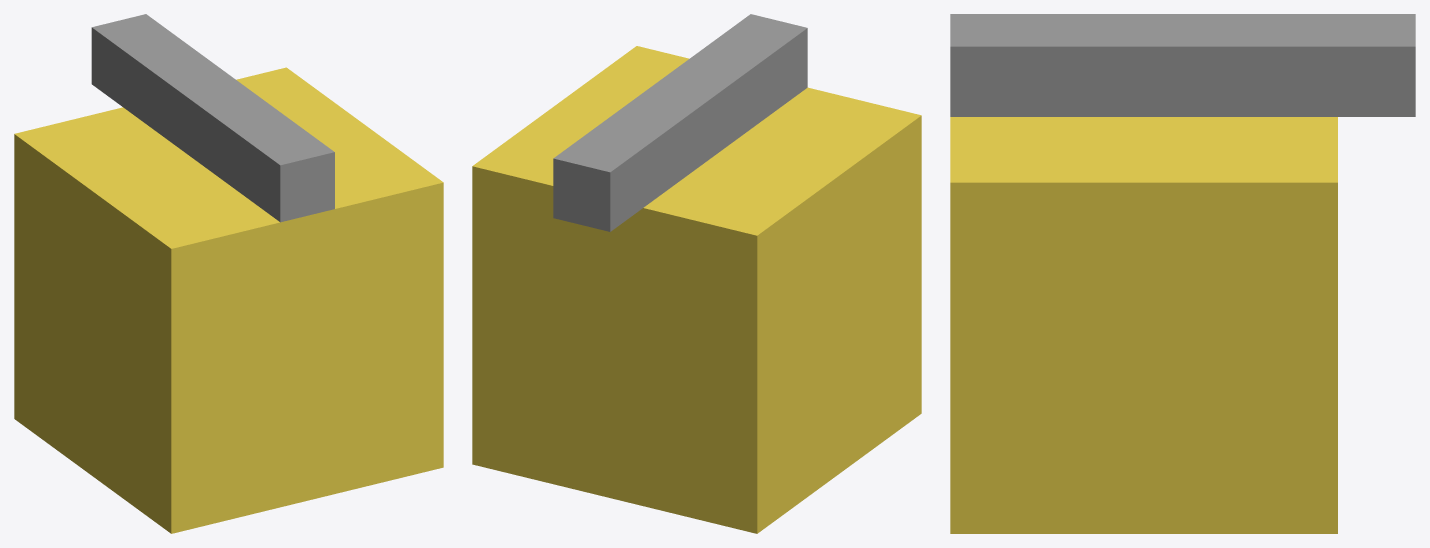
3 views of the same model, side by side, from view 1: azimuth 30°, elevation 25°; view 2: azimuth 150°, elevation 25°; view 3: azimuth 270°, elevation 25° (orthographic). The views are drawn at different scales.
Parts seen in each view (by area): view 1: OV_TEST_Voet, OV_TEST_Arm; view 2: OV_TEST_Voet, OV_TEST_Arm; view 3: OV_TEST_Voet, OV_TEST_Arm.
Boxes of the visible parts, x1,y1,x2,y2 form: OV_TEST_Voet: (14,67,443,533); OV_TEST_Arm: (91,14,334,222); OV_TEST_Voet: (472,46,921,533); OV_TEST_Arm: (553,14,807,231); OV_TEST_Voet: (950,117,1337,533); OV_TEST_Arm: (950,14,1415,116).
Bounding box in the file's own units: 1 × 1.2 × 1.2.
